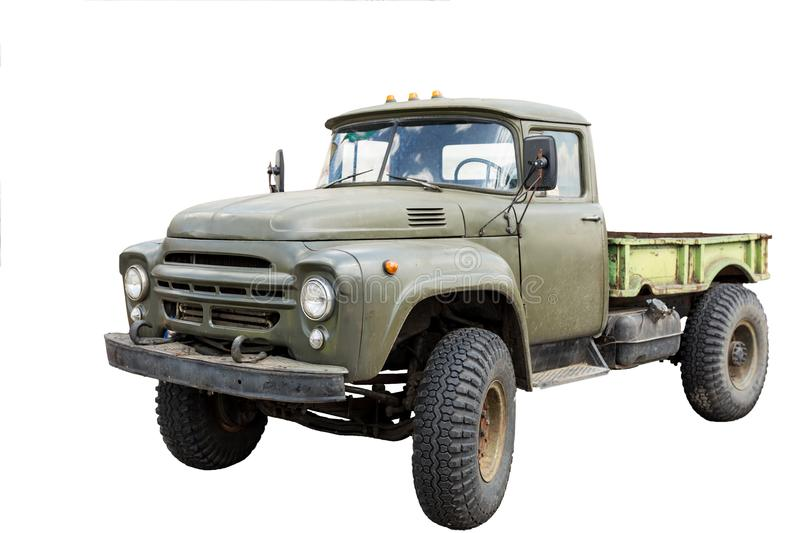camion: (99, 90, 759, 512)
